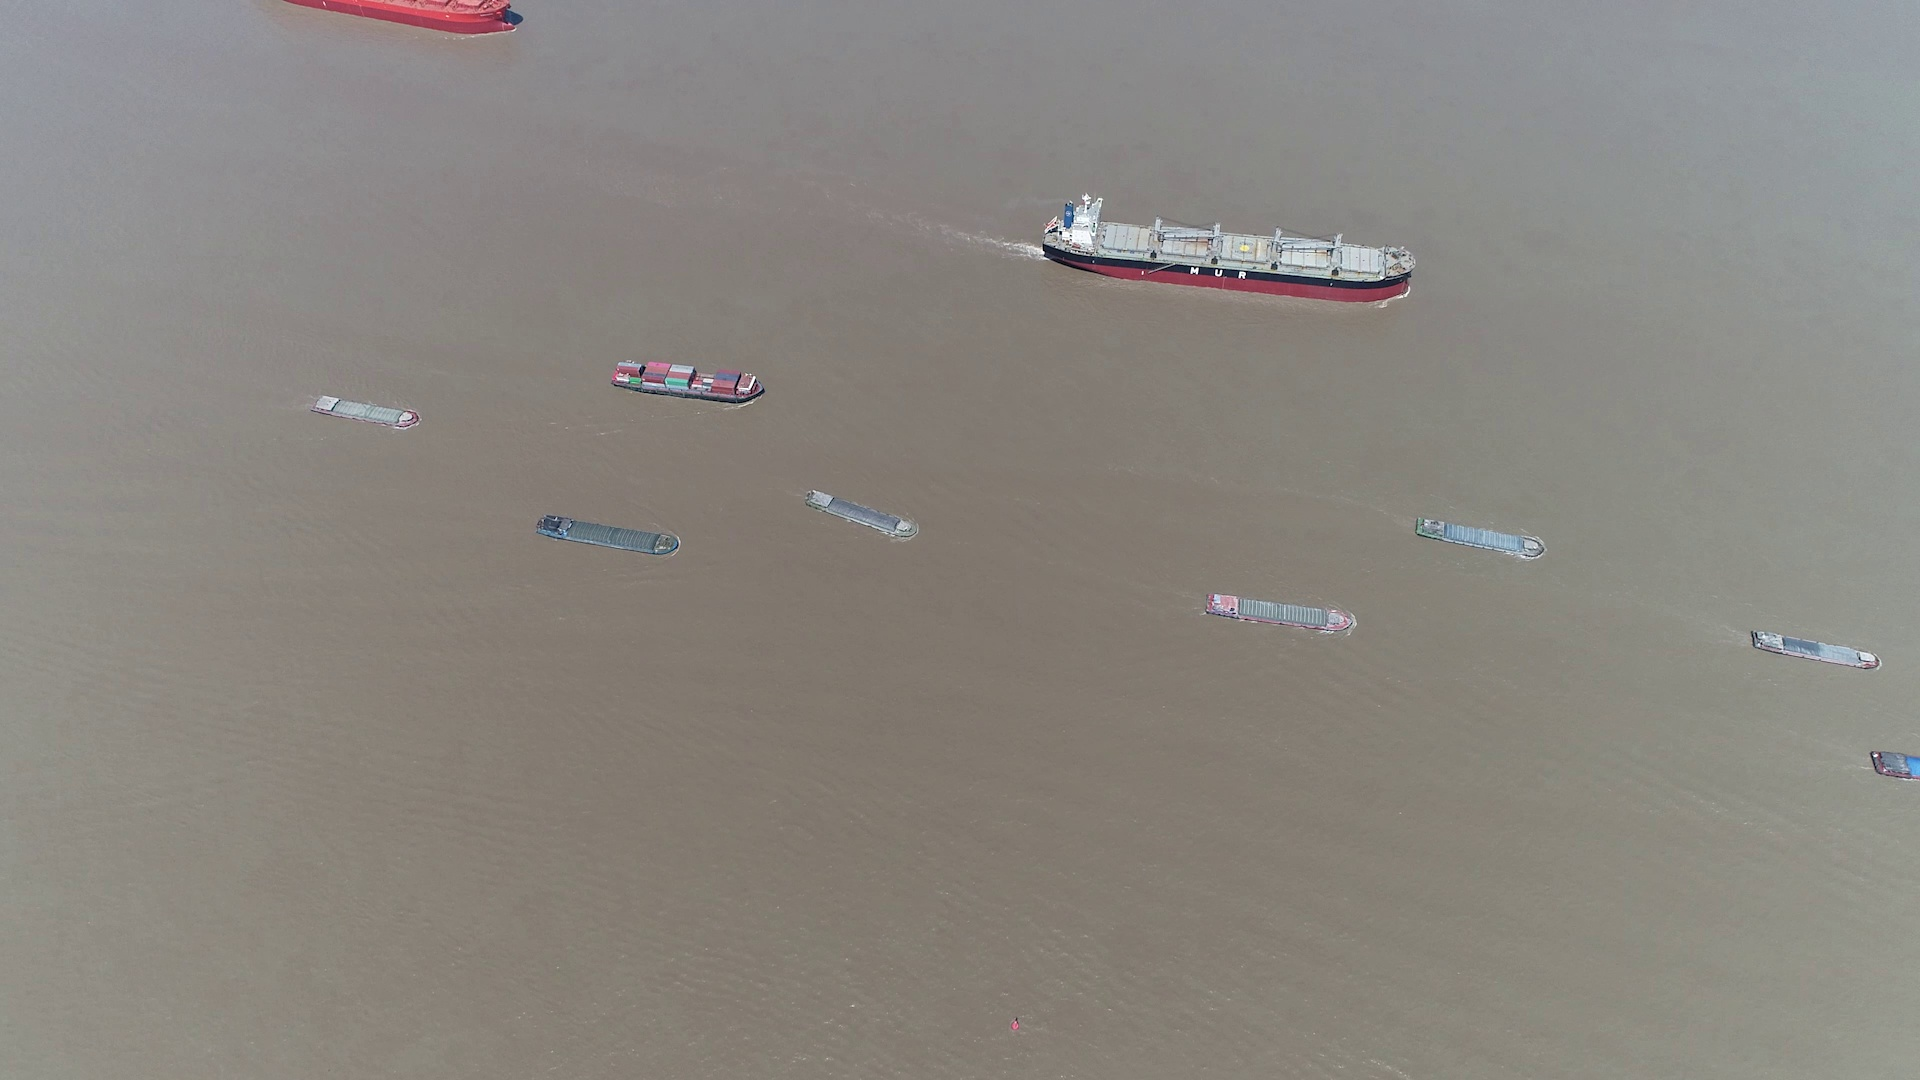ship: (1047, 196, 1418, 301), (276, 0, 520, 40), (611, 360, 767, 404), (534, 514, 684, 558), (1205, 593, 1356, 634), (1415, 516, 1545, 559), (808, 491, 919, 541), (1749, 630, 1879, 673), (313, 394, 422, 429), (1870, 752, 1919, 781)
